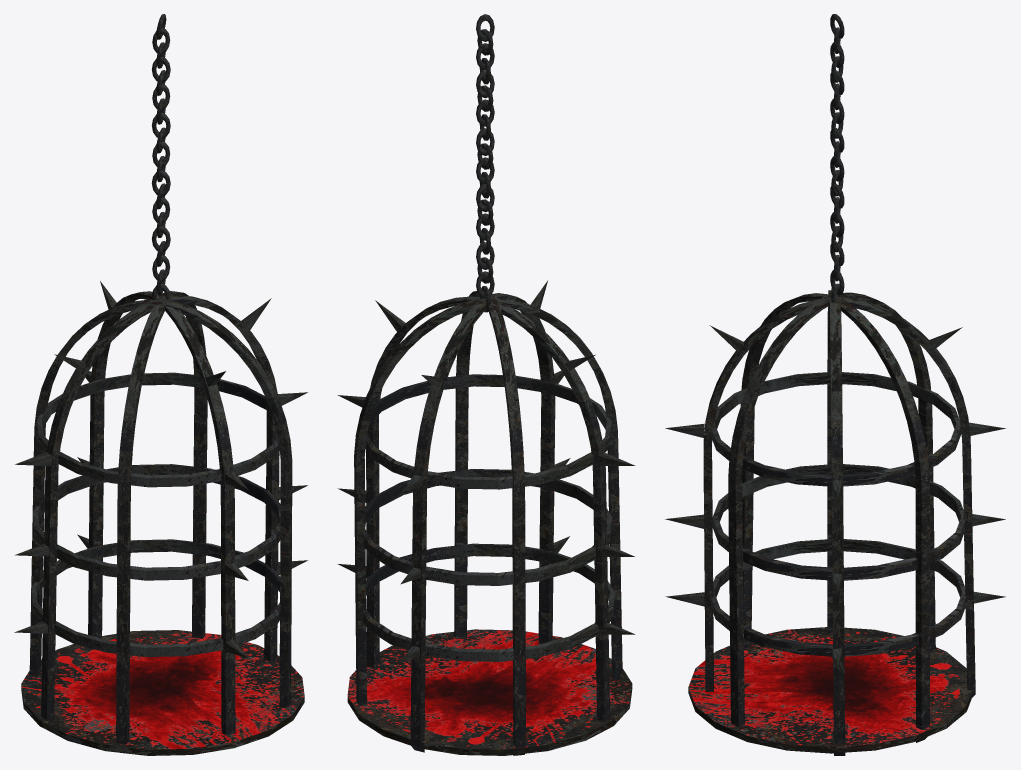
File: Torture_cage.fbx
3 renders of one model, left to right at view 1: azimuth 30°, elevation 25°; view 2: azimuth 150°, elevation 25°; view 3: azimuth 270°, elevation 25°, orthographic.
Visible parts, largest first — view 1: pCylinder1, pCube10 (×4), pCube11 (×4), pCube9, pCube7, pCube8; view 2: pCylinder1, pCube10 (×4), pCube11 (×4), pCube7, pCube9, pCube8; view 3: pCylinder1, pCube11 (×4), pCube10 (×4), pCube9, pCube7, pCube8.
Part boxes in pixels (x1,y1,x2,y2): pCylinder1: (21, 630, 304, 755); pCube10 (×4): (29, 291, 168, 744); pCube11 (×4): (157, 291, 292, 735); pCube9: (31, 539, 280, 656); pCube7: (37, 372, 279, 487); pCube8: (32, 464, 280, 580); pCylinder1: (347, 629, 632, 755); pCube10 (×4): (410, 296, 622, 755); pCube11 (×4): (354, 291, 555, 705); pCube7: (365, 374, 611, 489); pCube9: (362, 543, 615, 661); pCube8: (363, 469, 612, 585); pCylinder1: (688, 627, 972, 753); pCube11 (×4): (703, 296, 929, 755); pCube10 (×4): (740, 290, 975, 697); pCube9: (711, 539, 965, 656); pCube7: (711, 372, 961, 486); pCube8: (712, 464, 964, 580).
Size of the model in its own units: 2.31 by 5.14 by 2.31.
1 material, 1 textured.
